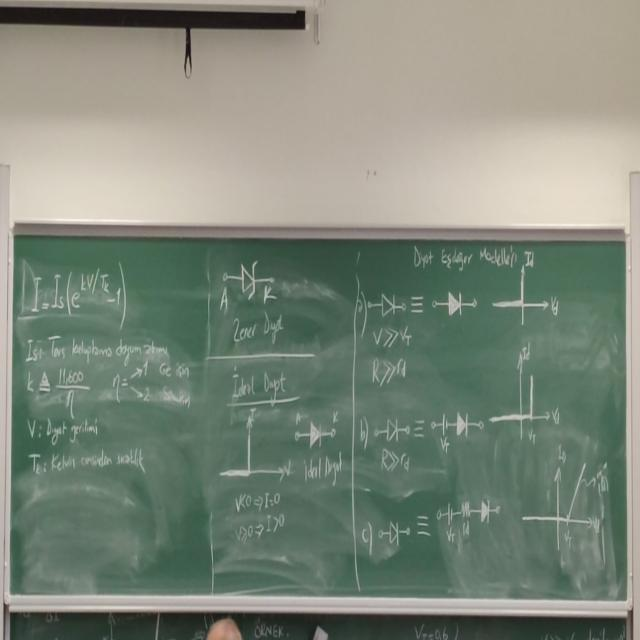image: (519, 447, 613, 557), (485, 344, 565, 445), (216, 408, 295, 489), (488, 268, 568, 334), (212, 240, 282, 314), (431, 496, 501, 544), (426, 401, 486, 454), (289, 405, 342, 458), (428, 280, 481, 323), (378, 516, 416, 550), (366, 288, 409, 318), (369, 416, 415, 444)
math: (27, 252, 129, 322), (25, 365, 92, 418), (230, 489, 290, 546), (371, 322, 412, 387), (112, 358, 153, 410), (379, 444, 414, 472)
text: (20, 413, 152, 481), (24, 330, 172, 362), (409, 234, 526, 272), (228, 361, 290, 401), (225, 312, 288, 344), (160, 362, 193, 416), (304, 452, 346, 486)
